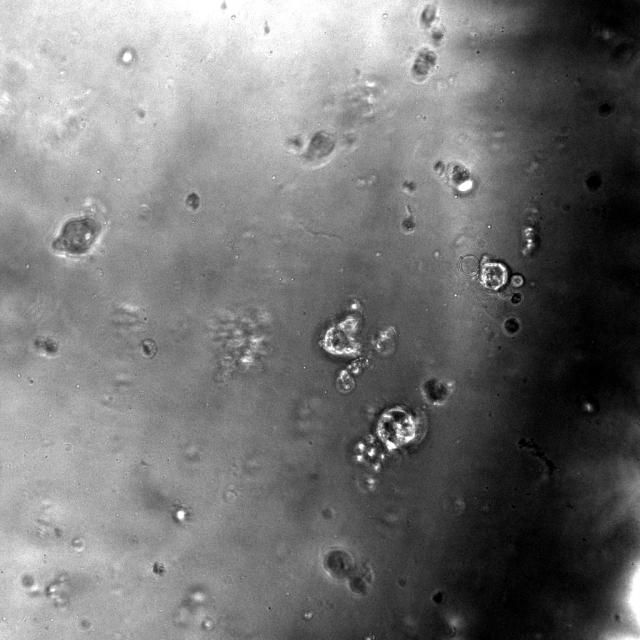organoid: (319, 297, 395, 393), (352, 405, 427, 490), (207, 308, 271, 381), (459, 254, 524, 304), (322, 548, 374, 595), (52, 217, 100, 254), (286, 130, 337, 163), (434, 160, 473, 193), (418, 3, 444, 45), (422, 378, 454, 406), (412, 47, 436, 81), (34, 336, 59, 355), (401, 206, 415, 234), (139, 338, 158, 358), (502, 317, 520, 337), (584, 172, 601, 191), (186, 192, 199, 210), (598, 102, 614, 116), (152, 560, 166, 575), (402, 180, 416, 193), (432, 591, 442, 603), (398, 578, 406, 587)
